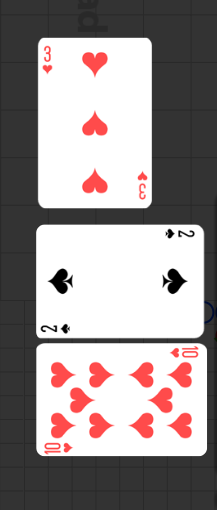10H: (44, 440, 76, 454)
2S: (40, 322, 73, 335)
